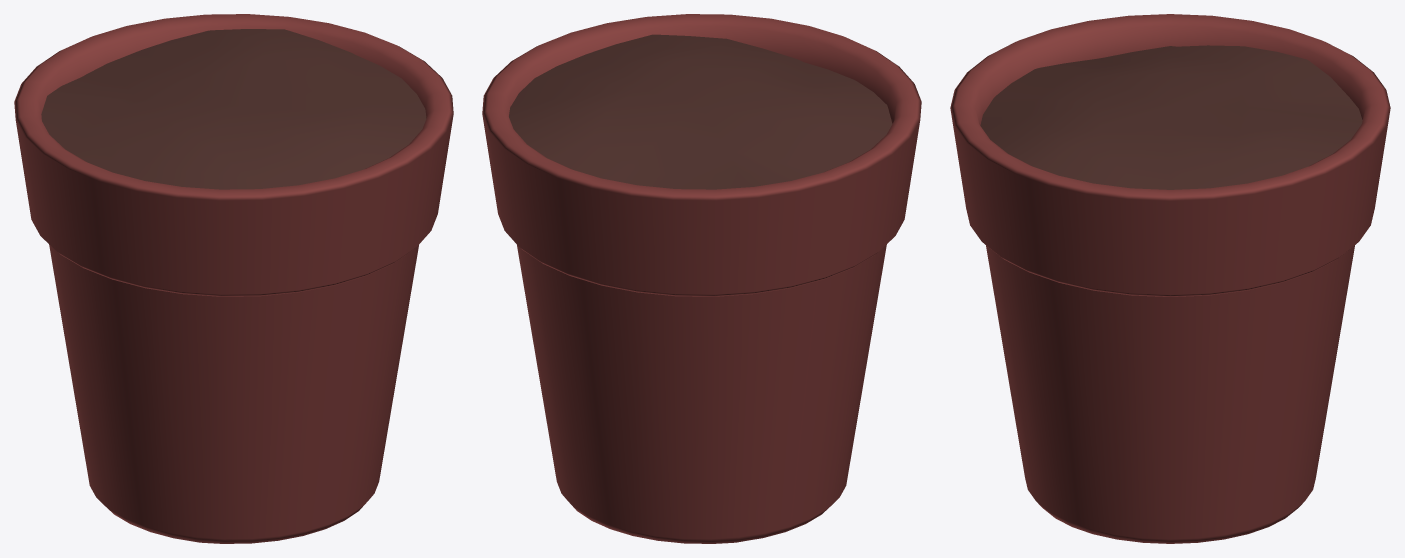
File: Planter3.fbx
3 views of the same model, side by side, from view 1: azimuth 30°, elevation 25°; view 2: azimuth 150°, elevation 25°; view 3: azimuth 270°, elevation 25° (orthographic).
Parts seen in each view (by area): view 1: Planter3; view 2: Planter3; view 3: Planter3.
Part boxes in pixels (bbox=[...]): Planter3: bbox=[14, 14, 453, 543]; Planter3: bbox=[482, 14, 921, 543]; Planter3: bbox=[950, 14, 1390, 543].
Size of the model in its own units: 18.43 by 18.08 by 18.43.
